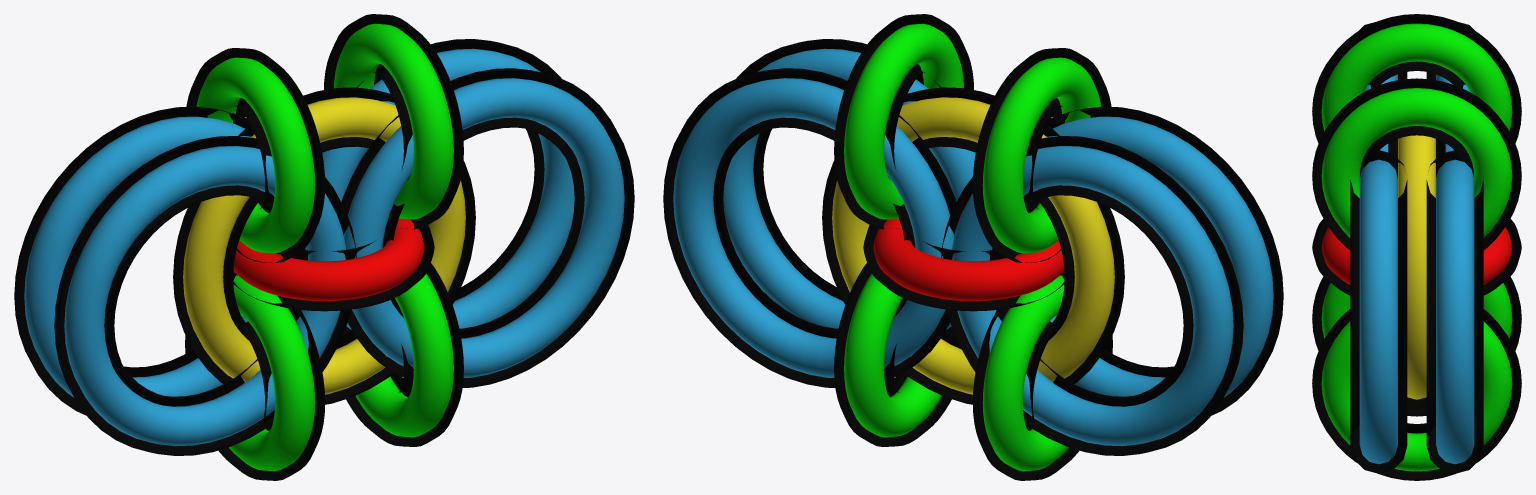
Rendered from heltic_step_03.glb.
3 renders of one model, left to right at view 1: azimuth 30°, elevation 25°; view 2: azimuth 150°, elevation 25°; view 3: azimuth 270°, elevation 25°, orthographic. The views are drawn at different scales.
Visible parts, largest first — view 1: Torus.004, Torus.003, Torus.008, Torus.002, Torus.006, Torus.005, Torus.001, Torus.009, Torus.010, Torus.007; view 2: Torus.001, Torus.002, Torus.008, Torus.003, Torus.006, Torus.005, Torus.004, Torus.009, Torus.010, Torus.007; view 3: Torus.001, Torus.004, Torus.005, Torus.006, Torus.010, Torus.008, Torus.007, Torus.009, Torus.002, Torus.003.
Part boxes in pixels (bbox=[...]): Torus.004: bbox=[341, 68, 634, 387]; Torus.003: bbox=[54, 136, 356, 455]; Torus.008: bbox=[173, 87, 475, 404]; Torus.002: bbox=[14, 106, 250, 415]; Torus.006: bbox=[186, 48, 325, 262]; Torus.005: bbox=[324, 14, 463, 229]; Torus.001: bbox=[322, 39, 574, 335]; Torus.009: bbox=[185, 275, 325, 480]; Torus.010: bbox=[346, 263, 463, 446]; Torus.007: bbox=[233, 218, 434, 311]; Torus.001: bbox=[663, 68, 956, 387]; Torus.002: bbox=[941, 136, 1243, 455]; Torus.008: bbox=[822, 87, 1124, 404]; Torus.003: bbox=[1047, 106, 1283, 415]; Torus.006: bbox=[972, 48, 1111, 262]; Torus.005: bbox=[834, 14, 973, 229]; Torus.004: bbox=[723, 39, 975, 335]; Torus.009: bbox=[972, 275, 1112, 480]; Torus.010: bbox=[834, 263, 951, 446]; Torus.007: bbox=[863, 218, 1064, 311]; Torus.001: bbox=[1426, 150, 1483, 473]; Torus.004: bbox=[1350, 150, 1407, 473]; Torus.005: bbox=[1312, 78, 1521, 250]; Torus.006: bbox=[1312, 14, 1521, 143]; Torus.010: bbox=[1312, 309, 1521, 480]; Torus.008: bbox=[1388, 135, 1445, 409]; Torus.007: bbox=[1312, 219, 1521, 295]; Torus.009: bbox=[1312, 277, 1521, 416]; Torus.002: bbox=[1426, 22, 1474, 152]; Torus.003: bbox=[1359, 22, 1407, 152].
Size of the model in its own units: 6.6 by 4.6 by 2.2.
